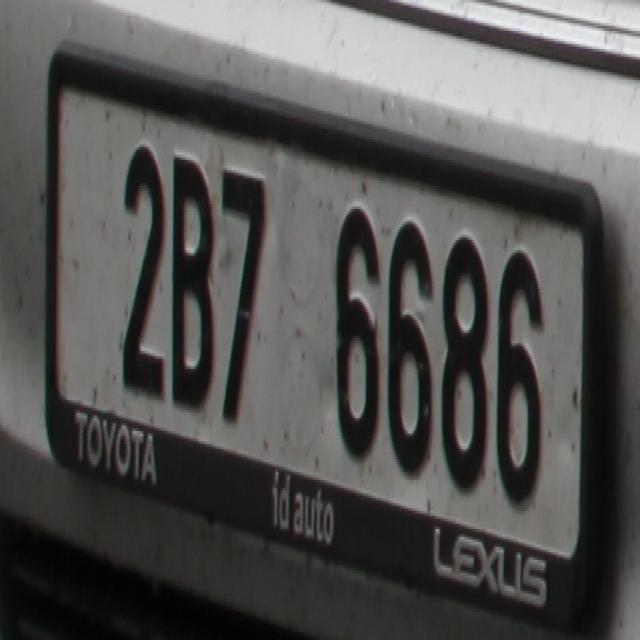2: (119, 144, 164, 395)
6: (494, 243, 544, 511), (331, 199, 382, 459), (384, 212, 432, 472)
7: (218, 162, 268, 420)
8: (433, 222, 490, 493)
B: (170, 144, 215, 413)
